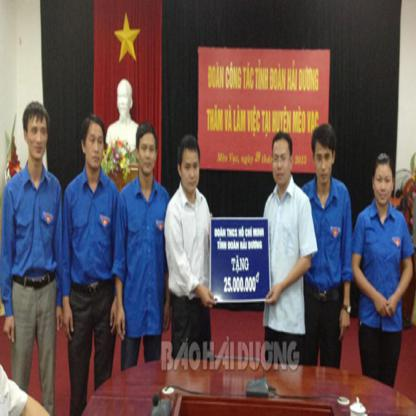face: (27, 114, 48, 160), (86, 123, 105, 168), (182, 147, 200, 192), (315, 139, 333, 184), (273, 140, 291, 184), (375, 164, 393, 204), (140, 132, 157, 174), (119, 83, 130, 117)
